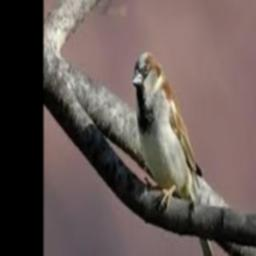Sparrow: (132, 51, 214, 256)
